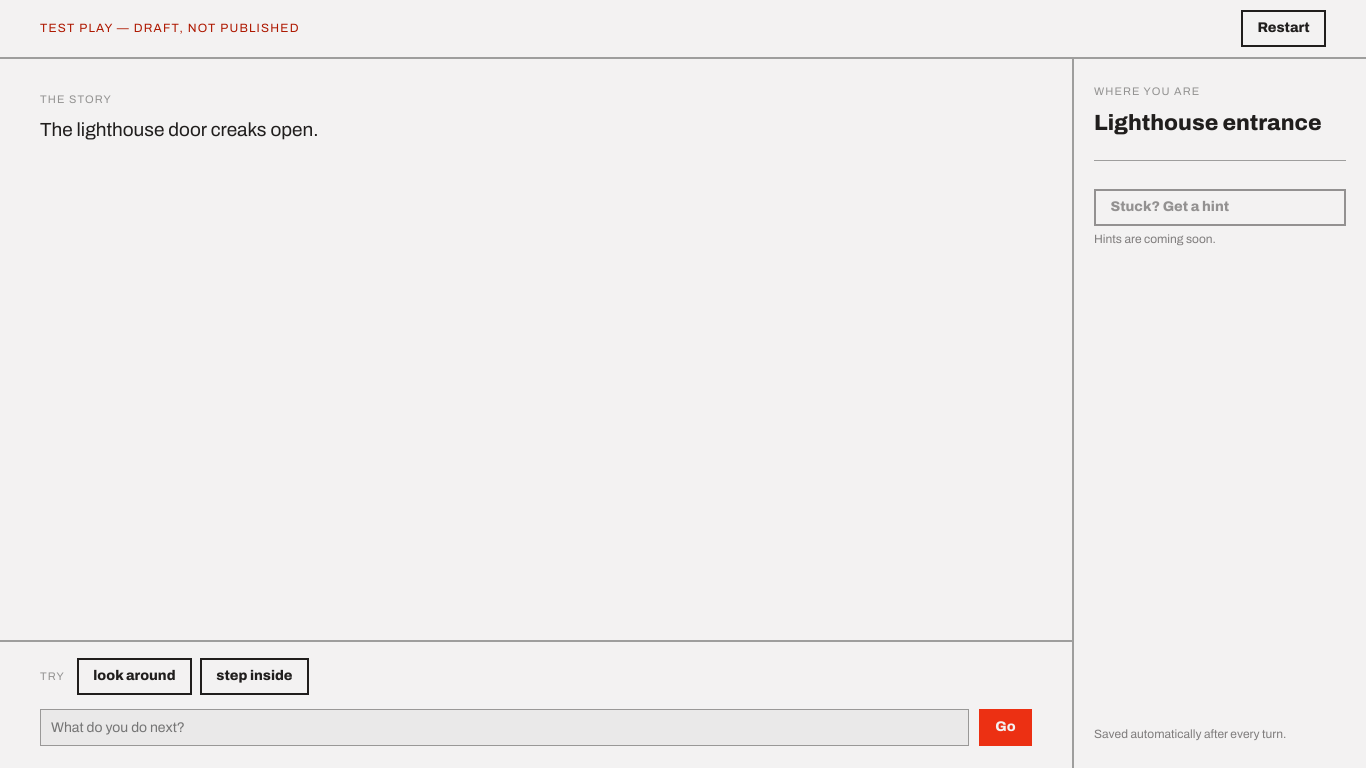
AdminStoryTestPlayPage (010-story-test-play-done) › restart shows a warning before anything happens; dismissing leaves the conversation intact (FR-005)
Expected: the text "The lighthouse door creaks open." is shown, [40,119,318,140]
Click the button "Restart": (1284, 28) [1241,10,1326,47]
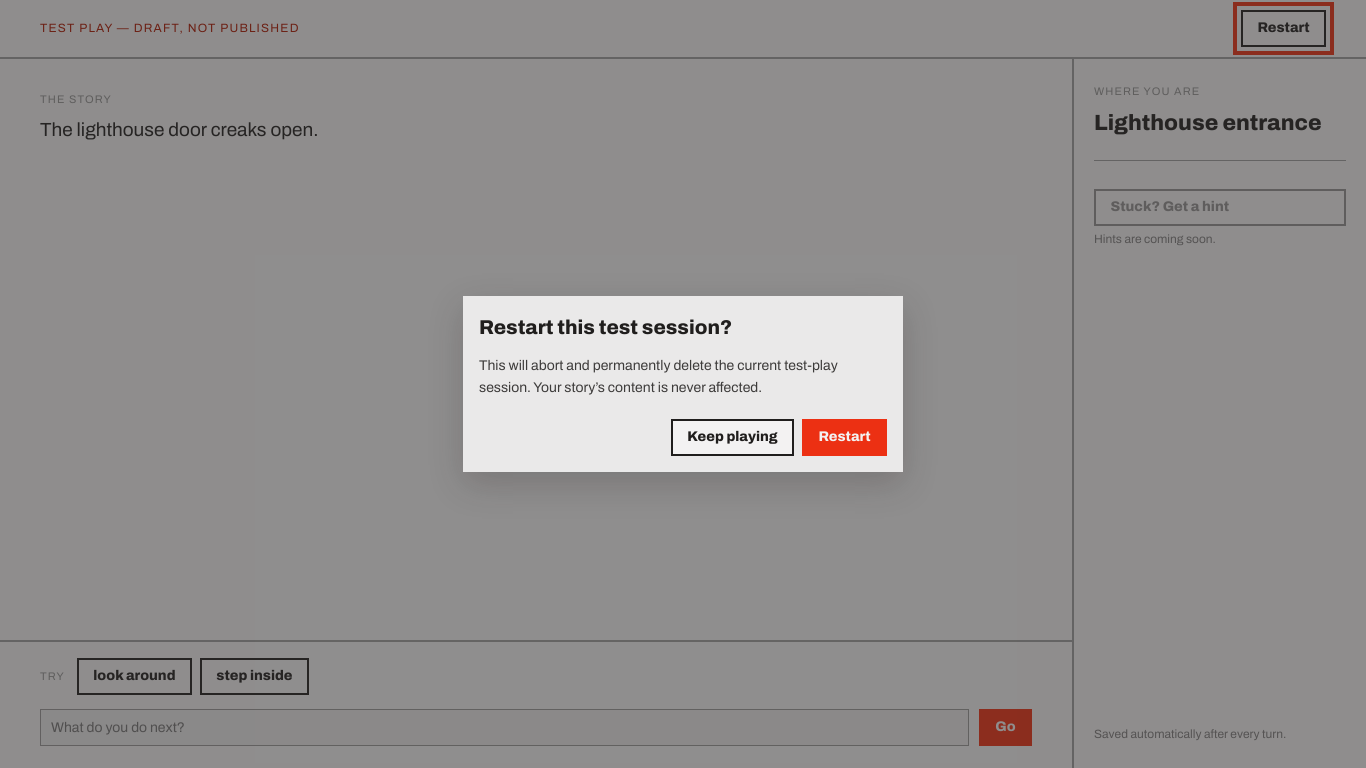
Expected: the dialog is shown, [463,296,903,472]
Click the button "Keep playing": (733, 437) [671,419,794,456]
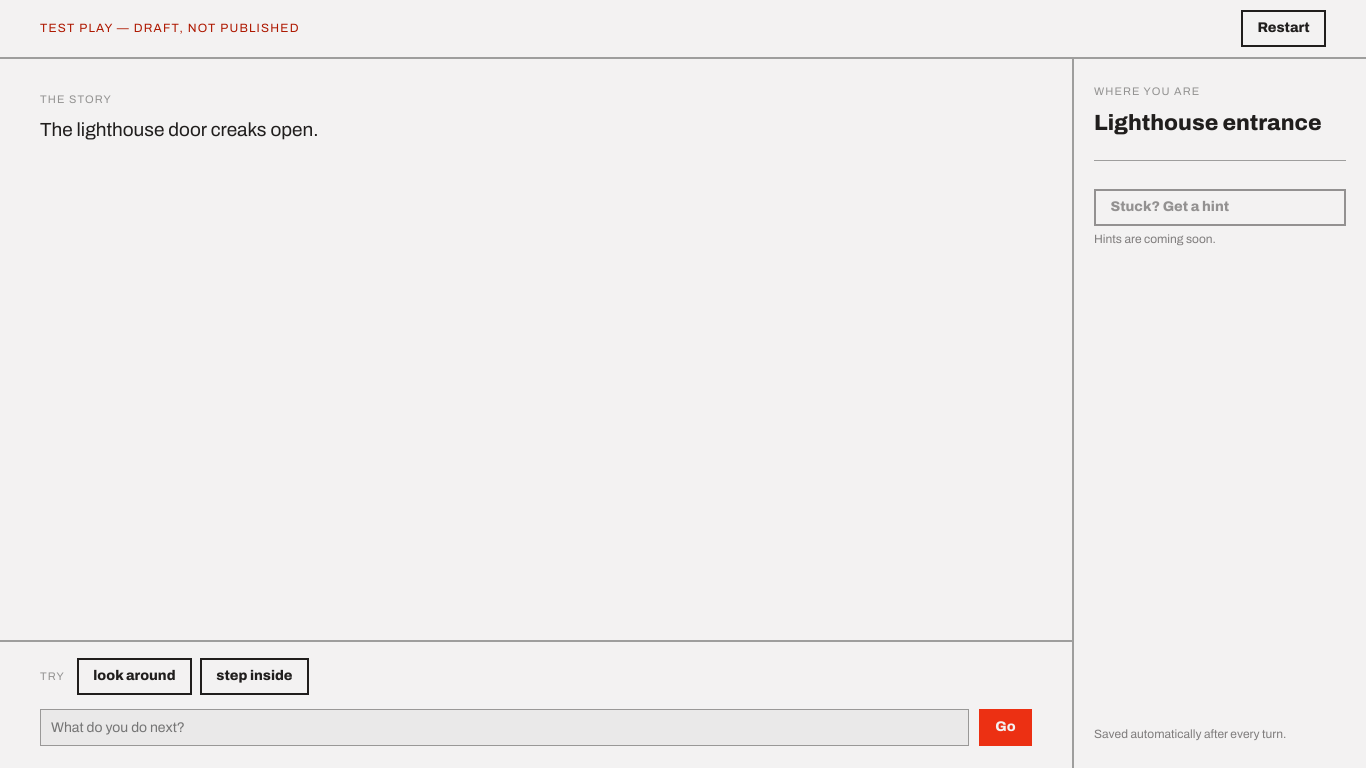
Expected: the text "The lighthouse door creaks open." is shown, [40,119,318,140]
Expected: the dialog is gone
